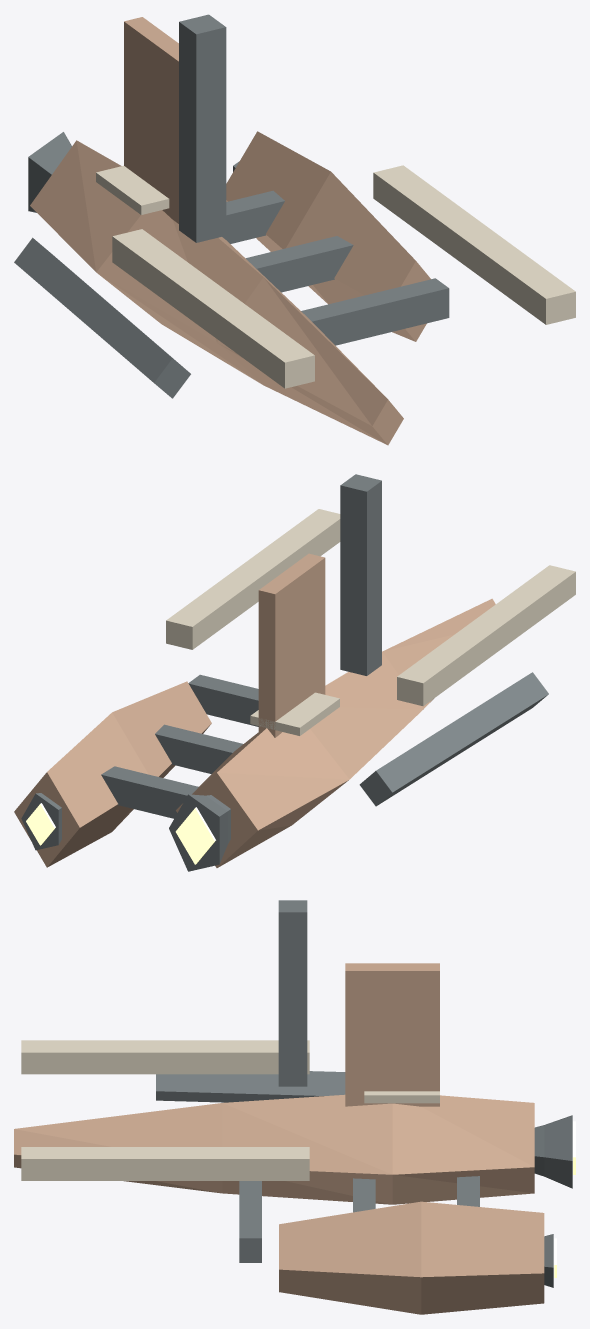
3 renders of one model, top to bottom at view 1: azimuth 30°, elevation 25°; view 2: azimuth 150°, elevation 25°; view 3: azimuth 270°, elevation 25°, orthographic. The views are drawn at different scales.
Size of the model in its own units: 6.14 by 5.96 by 9.35.
